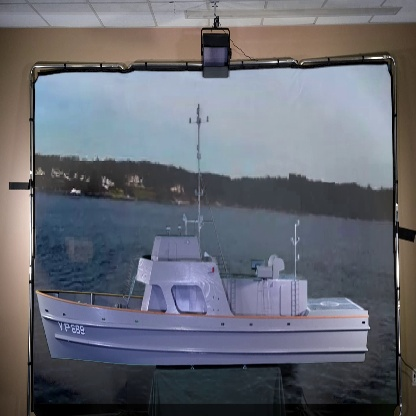YP689: (34, 85, 373, 374)
